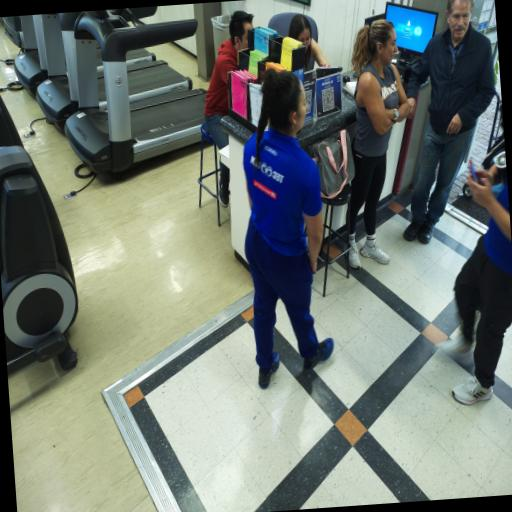person: (243, 70, 332, 388), (403, 0, 494, 243), (348, 20, 408, 268), (452, 165, 511, 405), (204, 11, 252, 148), (288, 14, 328, 70)
